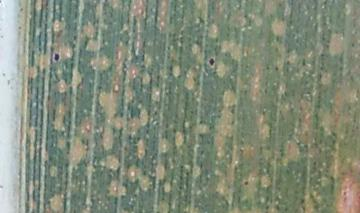tarspot: (52, 51, 61, 63), (208, 56, 216, 68), (243, 180, 249, 187)
